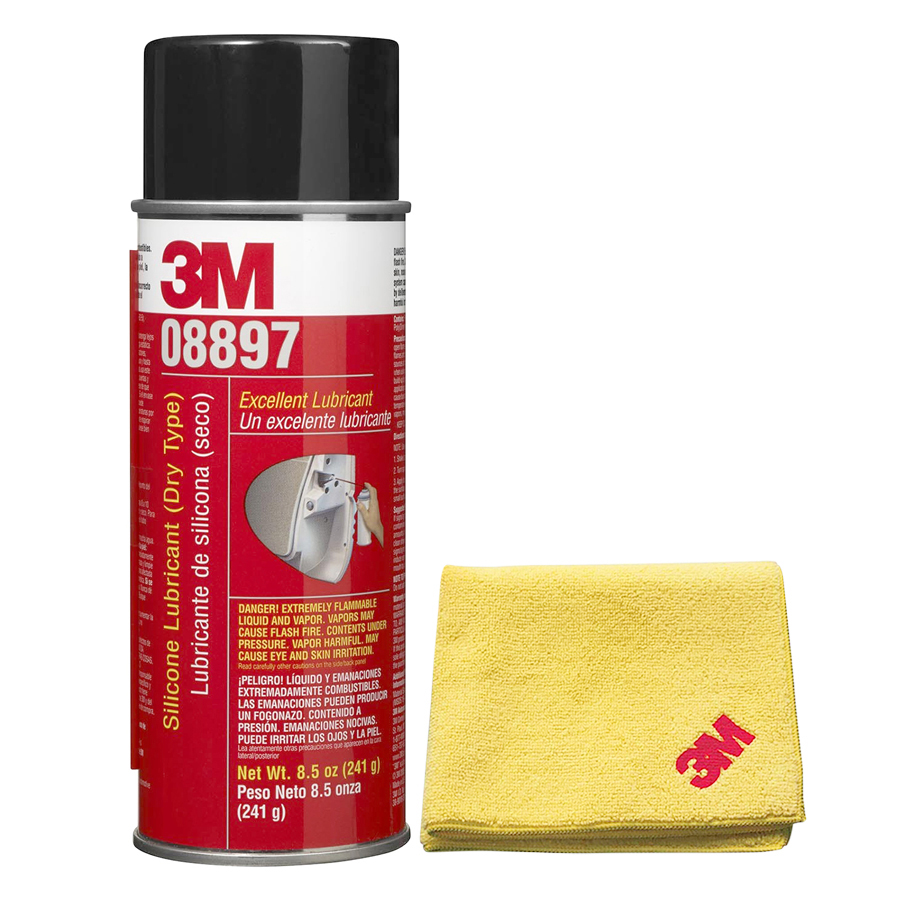3M: (153, 231, 282, 314), (663, 699, 764, 797)
